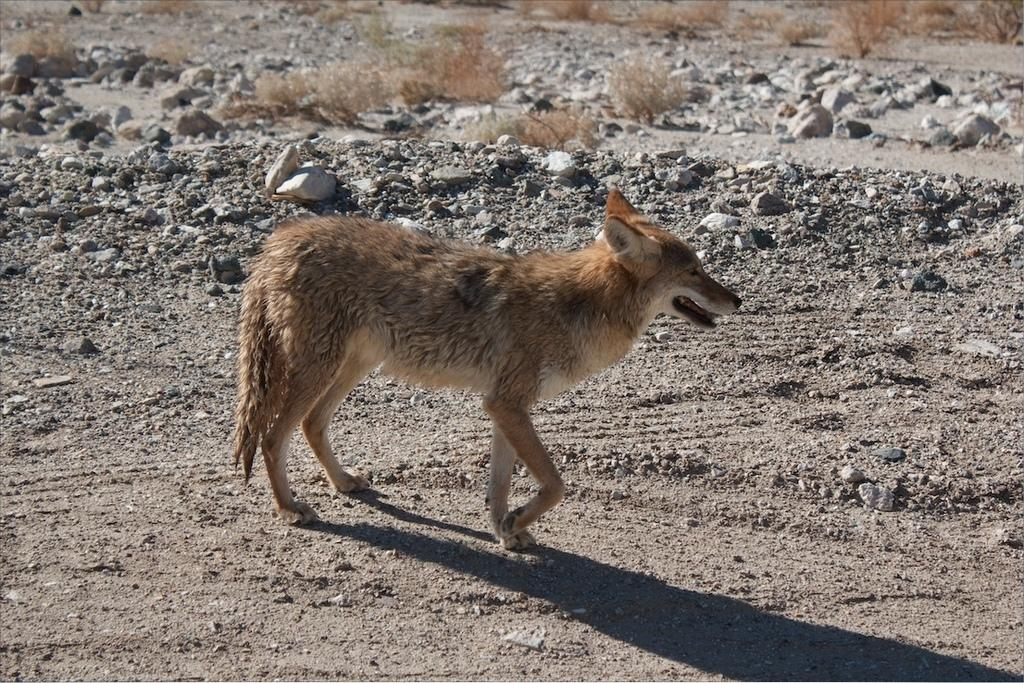Coyote: (230, 184, 745, 556)
